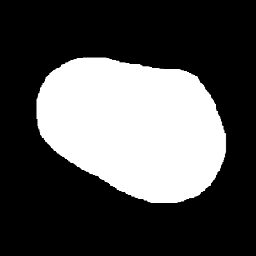mass: (45, 54, 212, 198)
